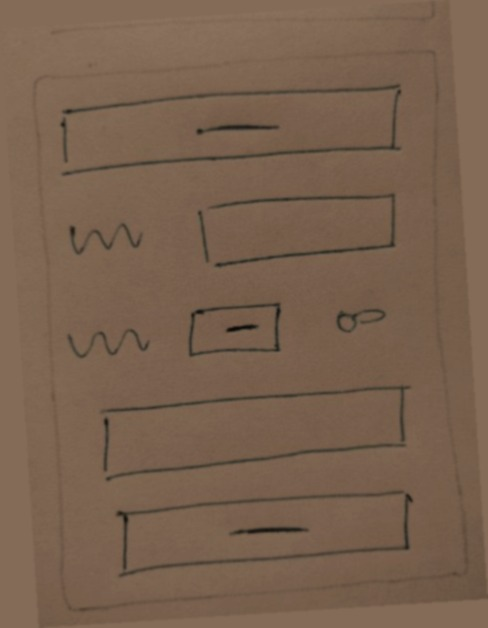button: (51, 77, 411, 185), (101, 482, 426, 585), (177, 293, 294, 368)
switch: (319, 289, 394, 345)
text: (57, 209, 153, 263), (62, 312, 157, 365)
text_input: (87, 375, 425, 485), (186, 182, 407, 275)
